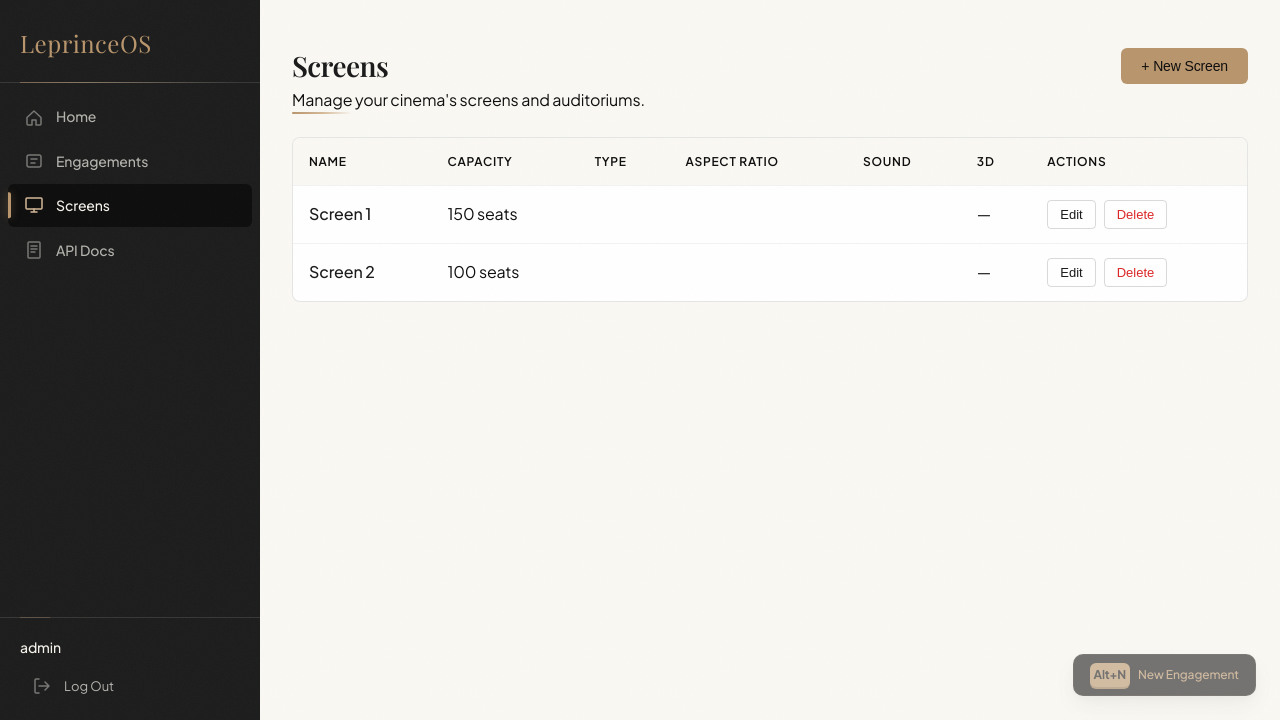
Screens CRUD Operations › Edit Screen › should open edit drawer when clicking Edit button
Note: Click Edit button
Click the button "Edit" in the row of "Screen 1". click: (1071, 215)
box: [1047,200,1095,229]
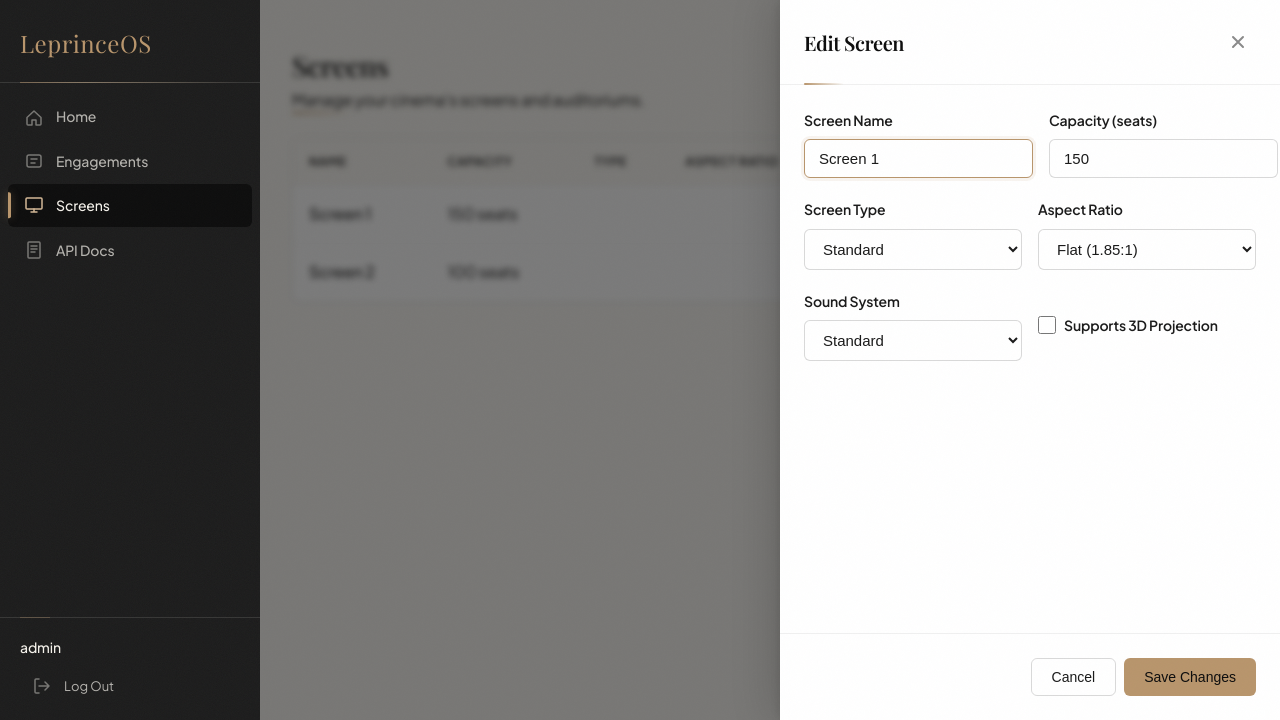
Now the heading "Edit Screen" is shown, box [804,30,904,54]
Now the field labelled "Screen Name" holds "Screen 1", box [804,139,1033,178]
Now the number field labelled "Capacity (seats)" holds "150", box [1049,139,1278,178]
